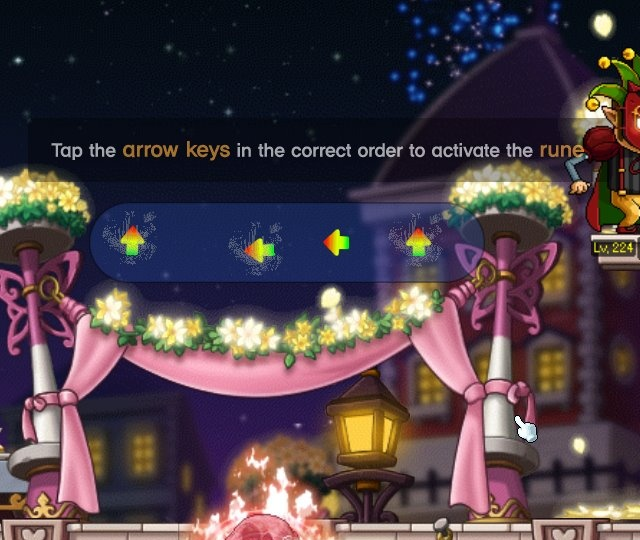left: (315, 222, 358, 260), (239, 232, 280, 269)
up: (400, 224, 439, 263), (115, 222, 155, 259)
